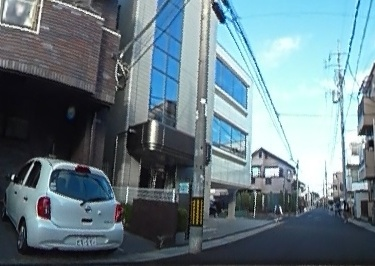person: (342, 199, 350, 222), (275, 201, 282, 218)
